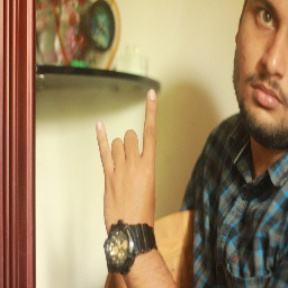V: (95, 86, 170, 244)
